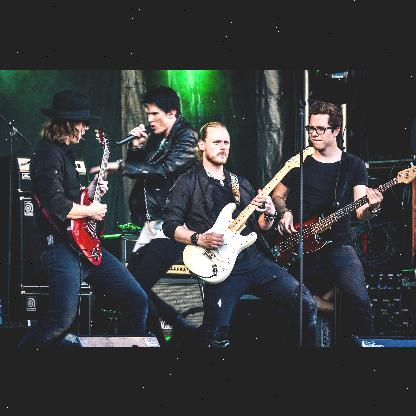bass: (271, 160, 415, 271)
guitar: (184, 145, 314, 287), (66, 127, 112, 267)
